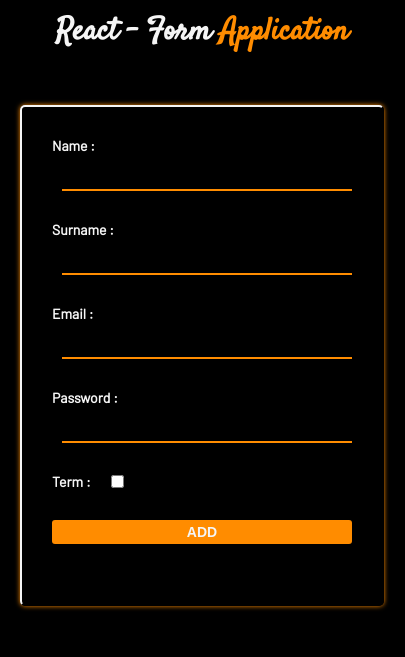
Test: Form_Validation Testing › emailInput - Testing
Type "mesud.28gmail.com" into the field with id "email".
click(207, 348); type("mesud.28gmail.com")  # box [62,337,352,359]
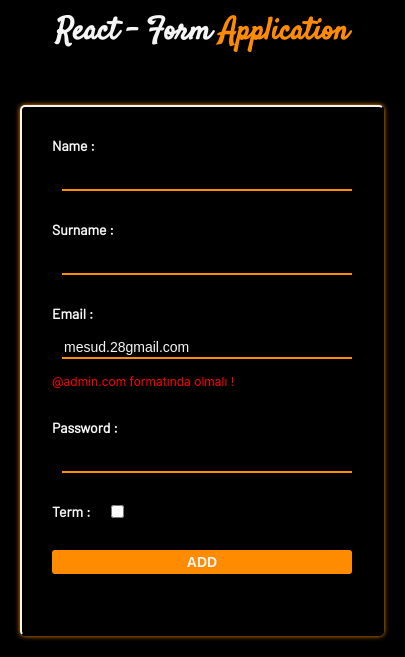
Check: the text "@admin.com formatında olmalı !" is shown, box [52,374,234,389]
